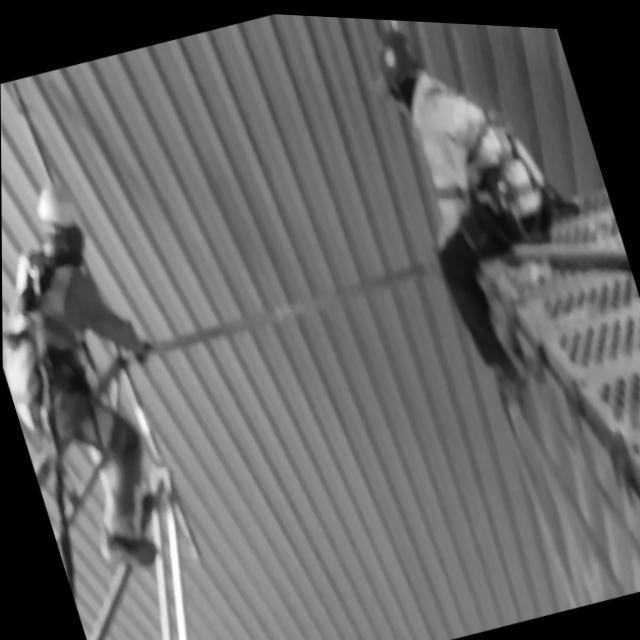belt: (1, 227, 140, 469)
